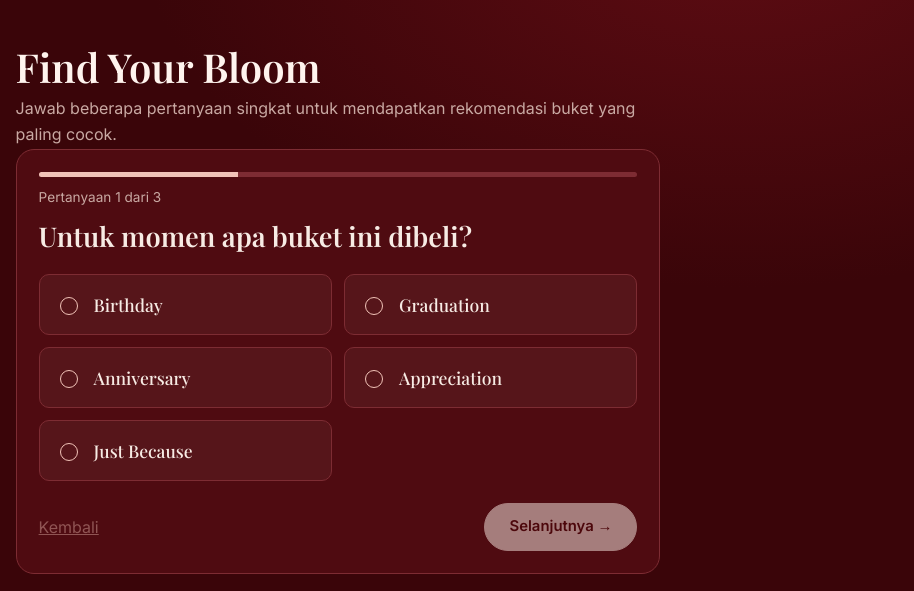
Scenario: Find › menampilkan error bila rekomendasi gagal
Click the button "Birthday".
click(128, 305)  # box x1=39 y1=274 x2=332 y2=336
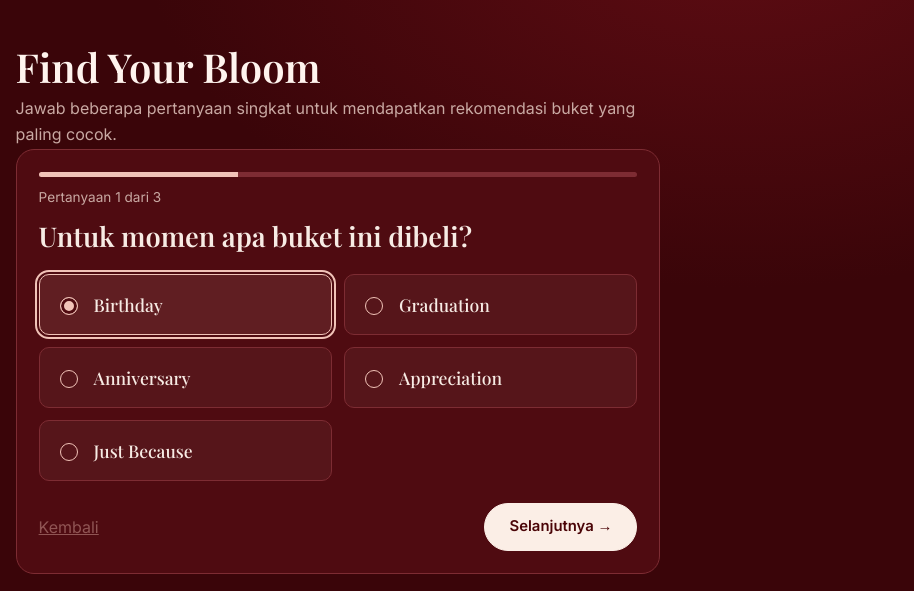
Click the button "Selanjutnya →".
click(561, 527)  # box x1=484 y1=504 x2=637 y2=551
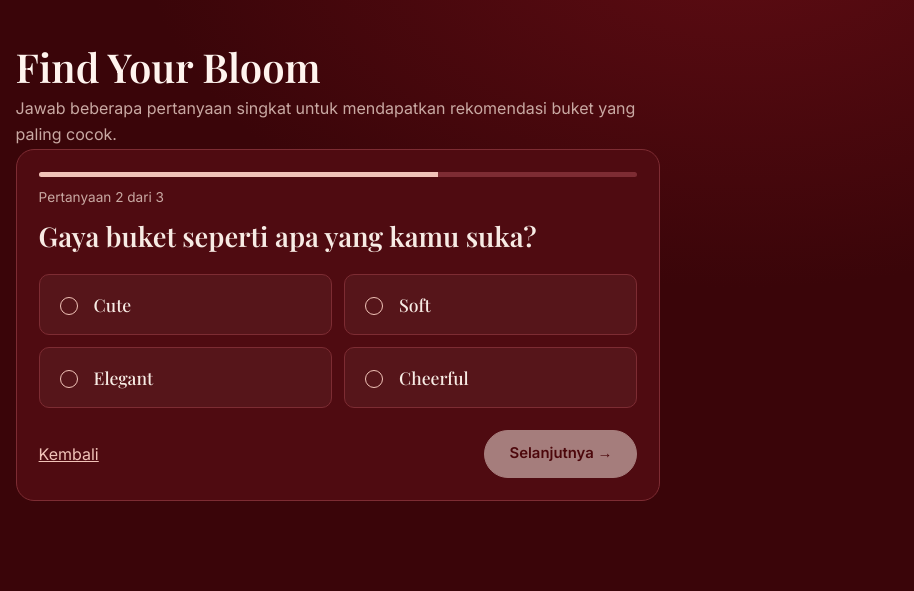
Click the button "Soft".
click(415, 305)  # box x1=344 y1=274 x2=637 y2=336
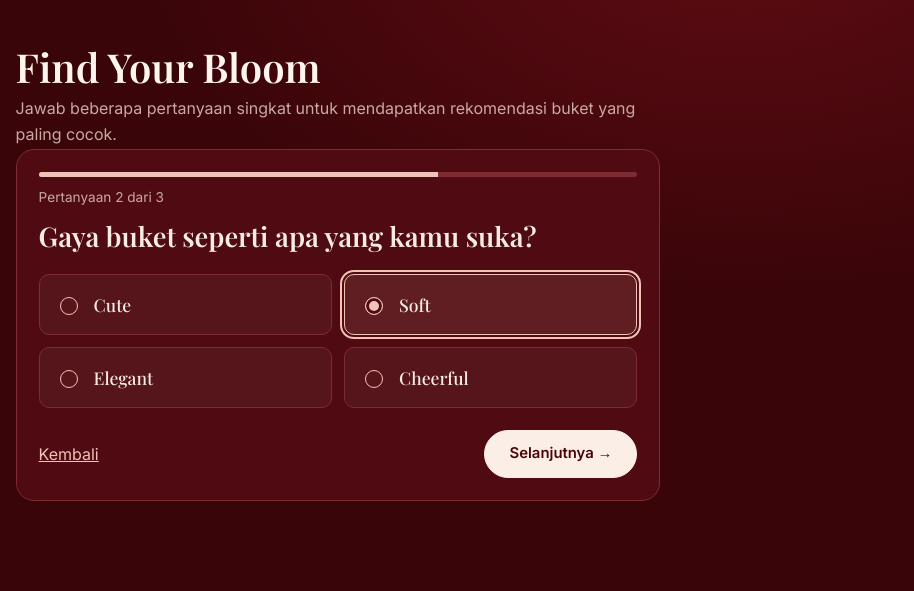
Click the button "Selanjutnya →".
click(561, 454)  # box x1=484 y1=430 x2=637 y2=478
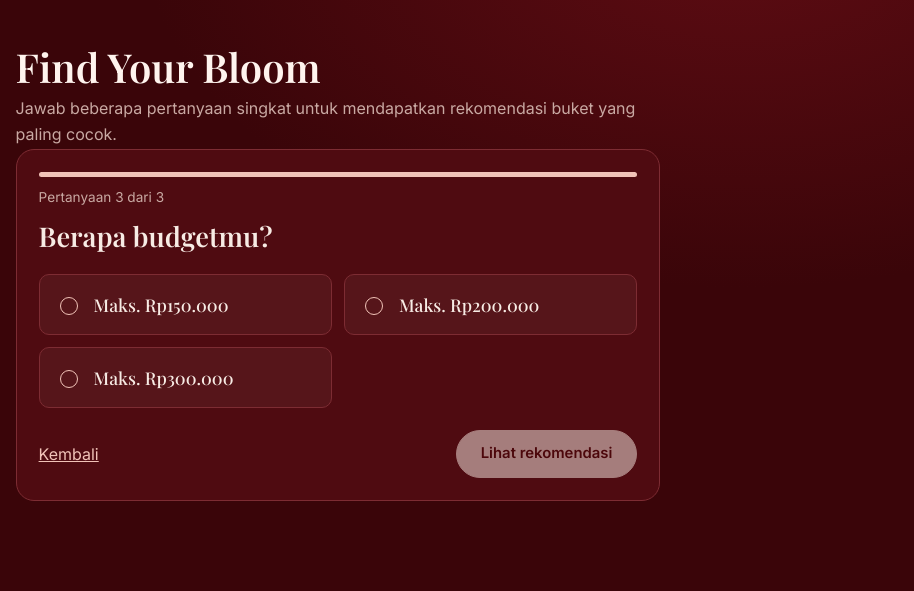
Click the button "Maks. Rp150.000".
click(185, 305)  # box x1=39 y1=274 x2=332 y2=336
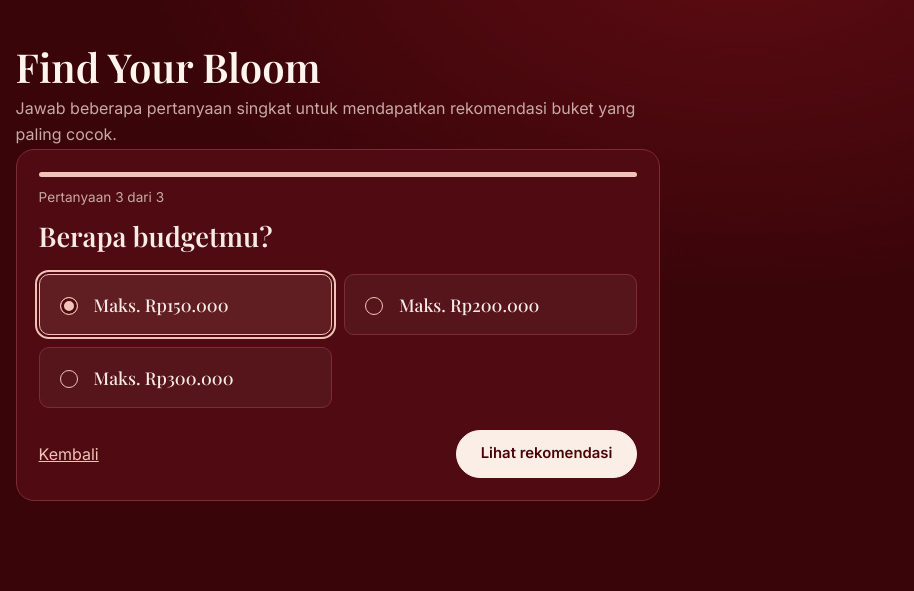
Click the button "Lihat rekomendasi".
click(547, 454)  # box x1=456 y1=430 x2=637 y2=478
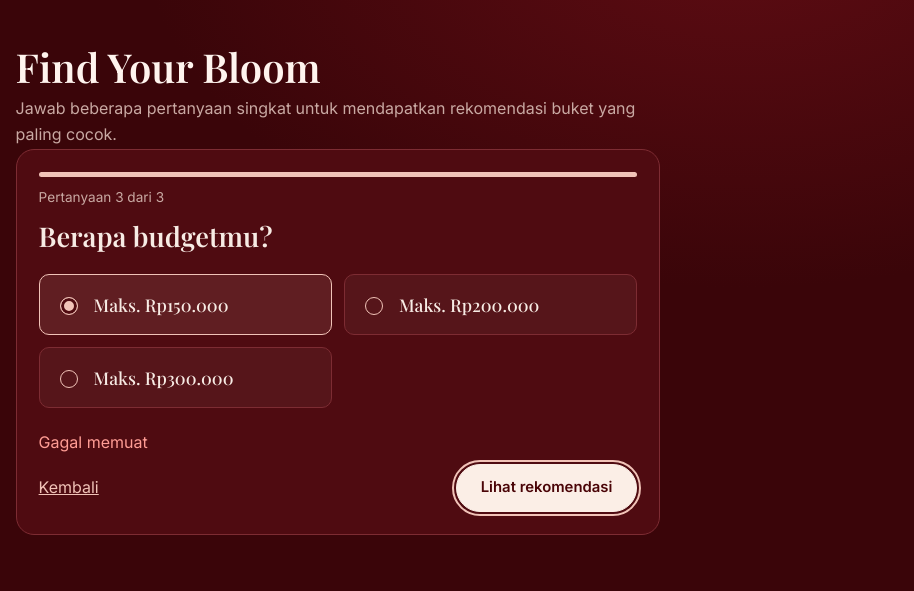
Check: the text "Gagal memuat" is shown, box x1=39 y1=432 x2=148 y2=452
